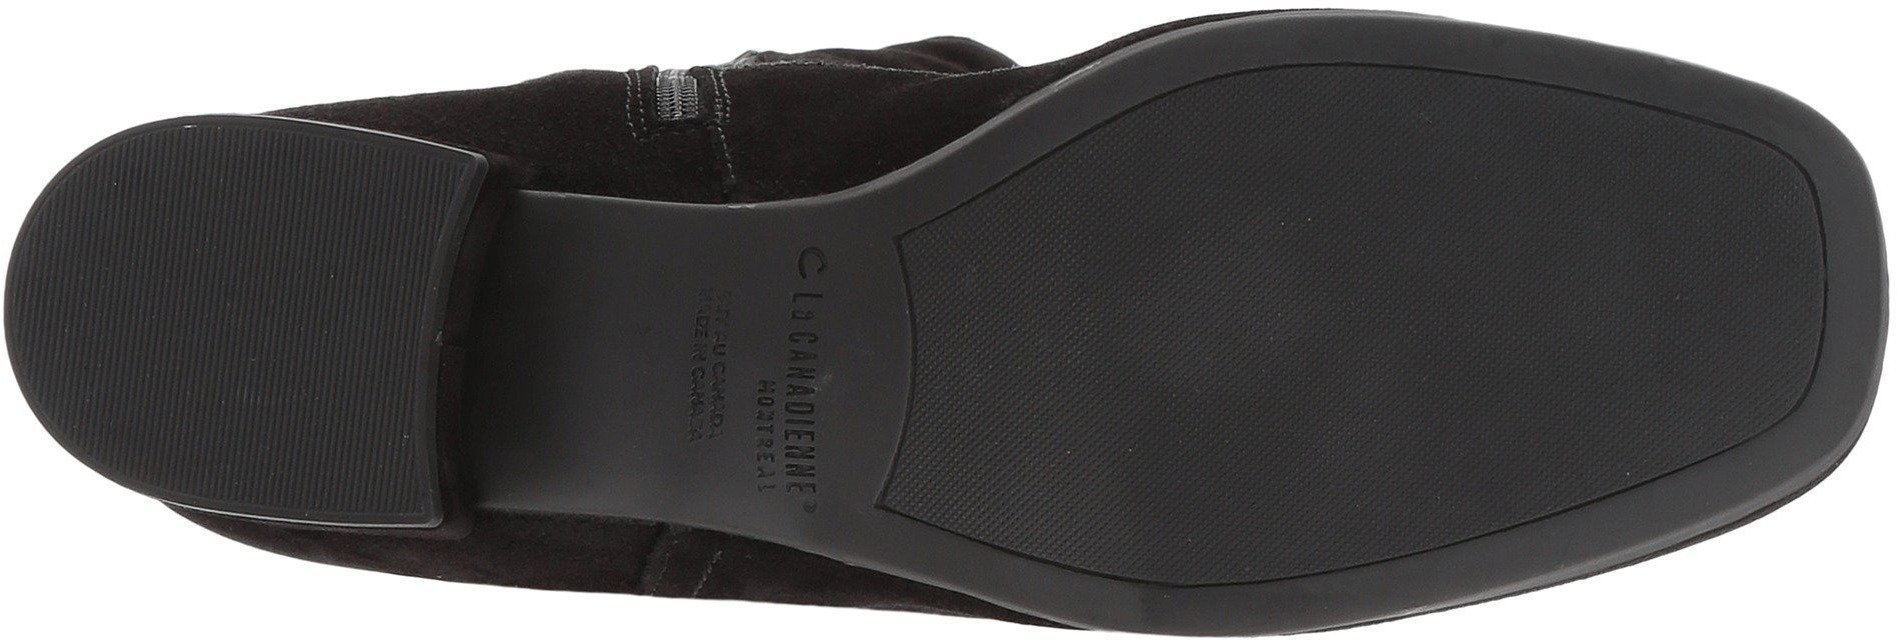other: (1499, 122, 1789, 418), (121, 168, 405, 464), (1212, 98, 1495, 342), (956, 227, 1211, 497), (1216, 347, 1428, 547)
